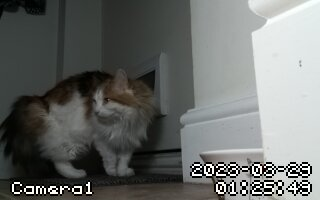clara: (11, 71, 158, 183)
